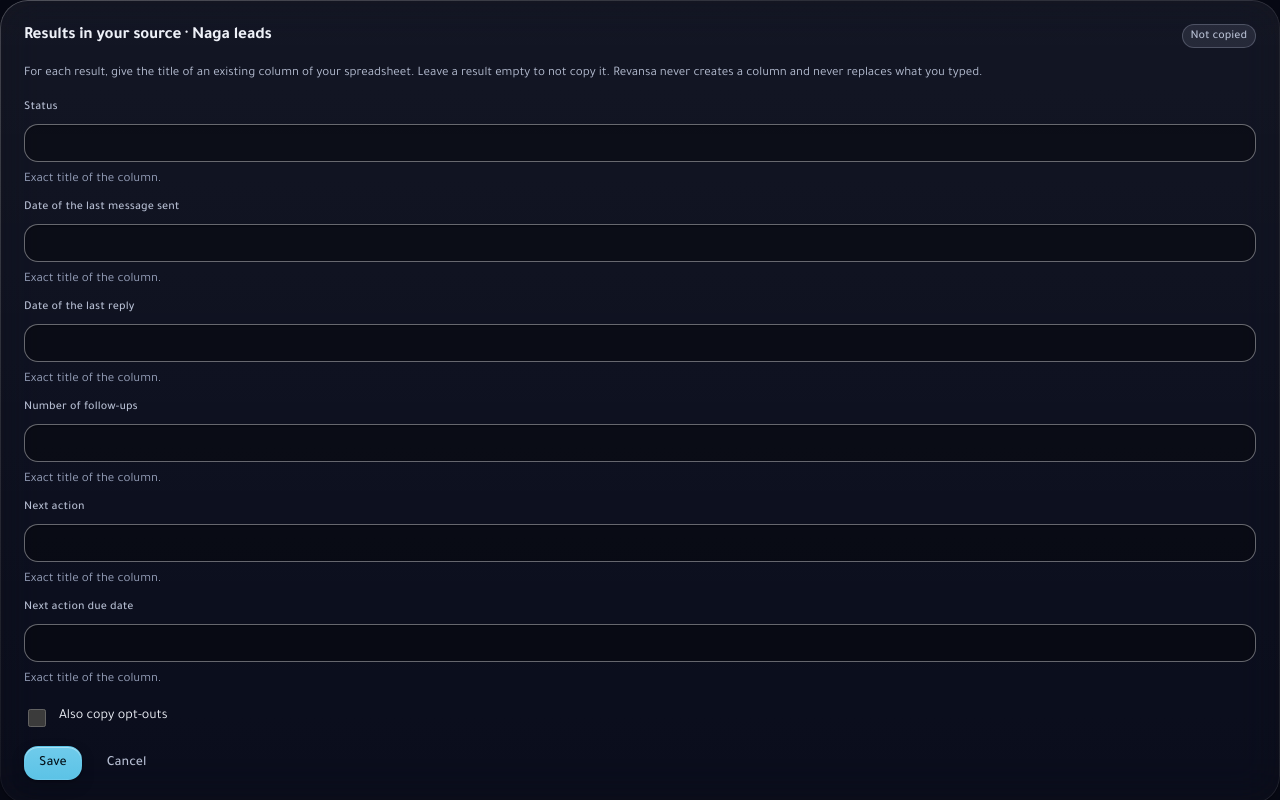
Test: SyncCard › saves the columns the client names, one by one, and nothing else
Type "Statut" into the field labelled "Status" at (640, 143), box [24,124,1256,162]
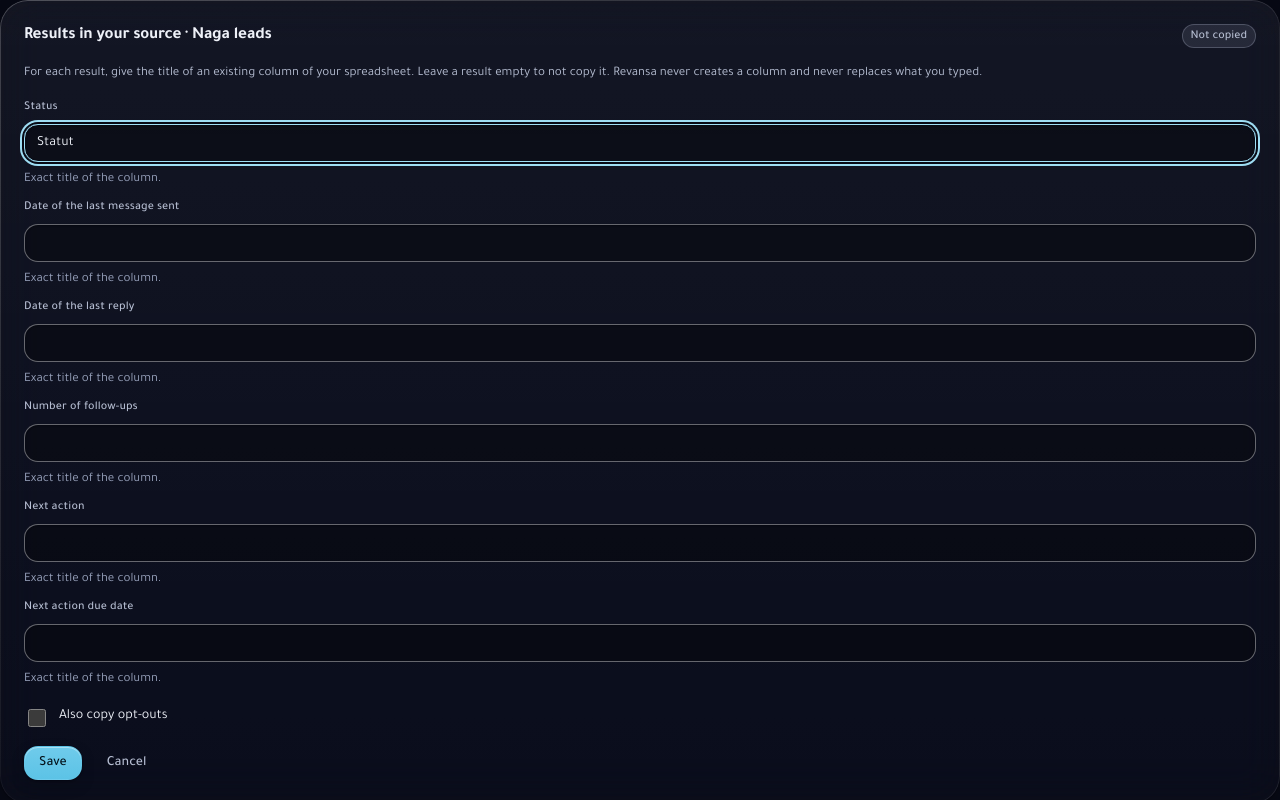
Click the button "Save" at (53, 763), box [24,746,82,780]
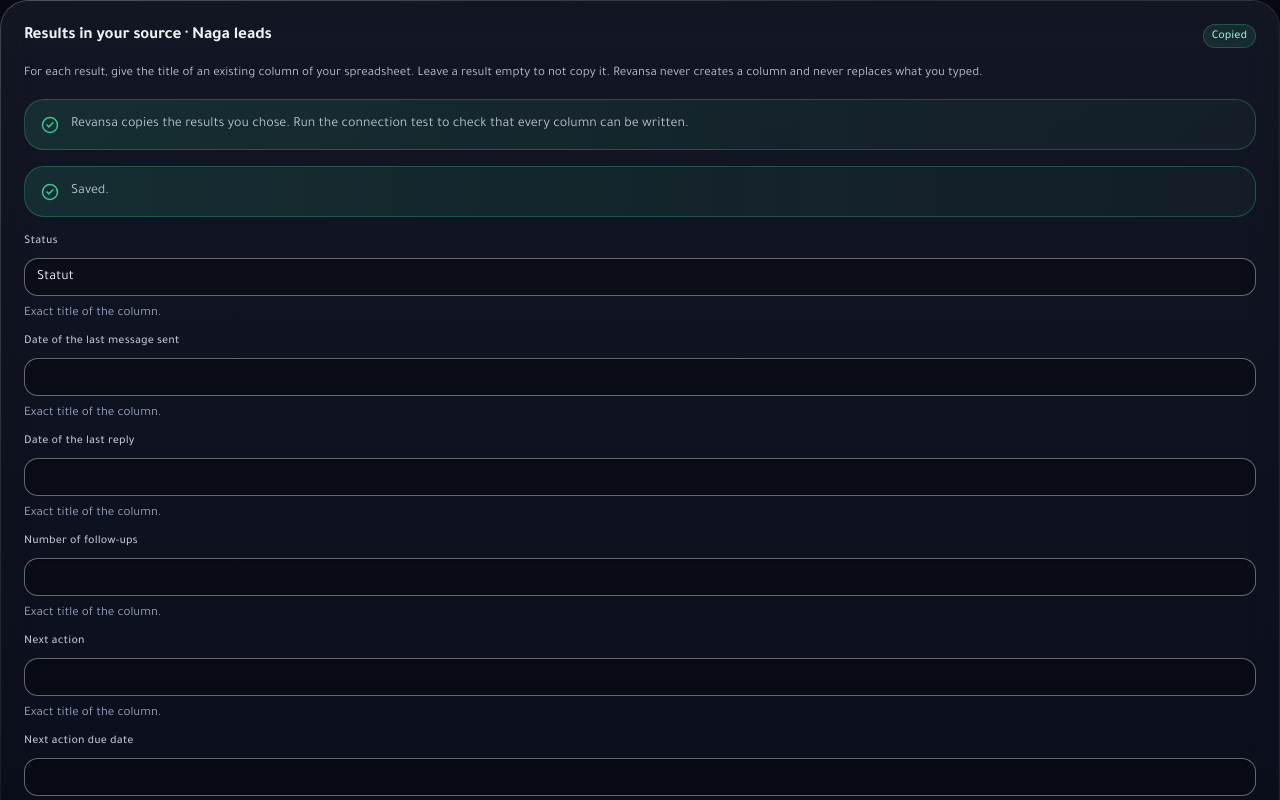
Check: the text "Saved." is shown, box [71,181,109,202]
